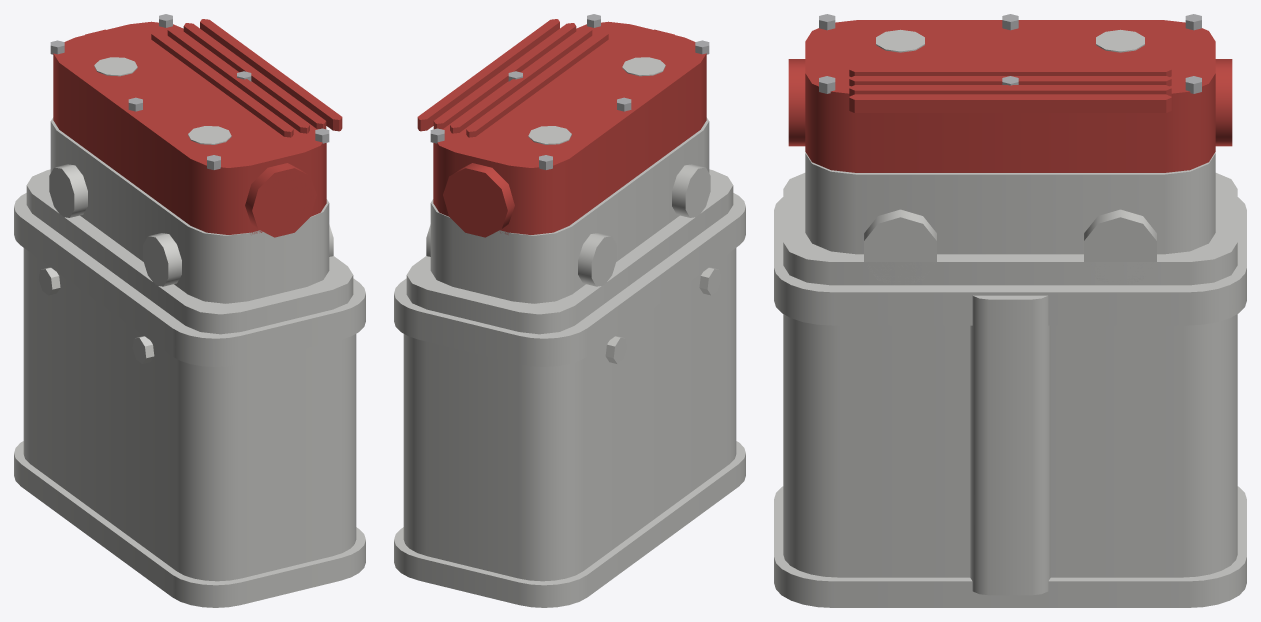
File: hot_cam_lod1.glb
3 views of the same model, side by side, from view 1: azimuth 30°, elevation 25°; view 2: azimuth 150°, elevation 25°; view 3: azimuth 270°, elevation 25° (orthographic). The views are drawn at different scales.
Parts seen in each view (by area): view 1: hot_cam_lod1; view 2: hot_cam_lod1; view 3: hot_cam_lod1.
Boxes of the visible parts, x1,y1,x2,y2 form: hot_cam_lod1: (14, 14, 365, 607); hot_cam_lod1: (394, 14, 745, 607); hot_cam_lod1: (774, 14, 1246, 607).
Bounding box in the file's own units: 0.146 × 0.3043 × 0.258.
